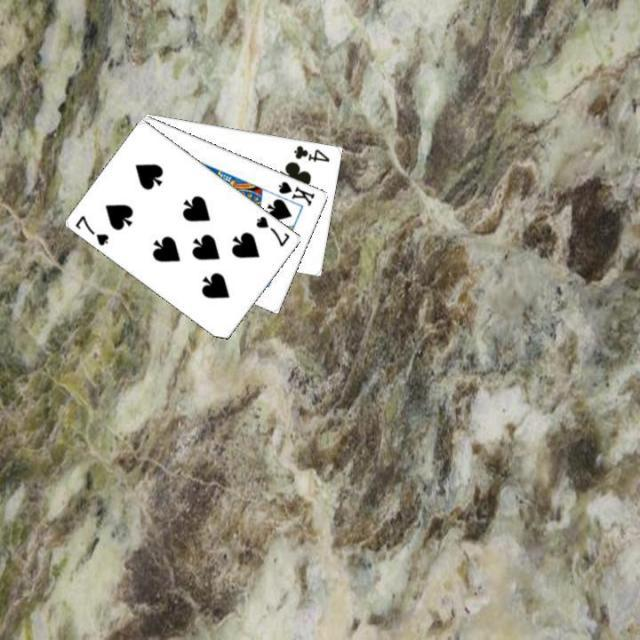4C: (290, 142, 332, 164)
7S: (252, 212, 292, 248), (71, 212, 111, 248)
KS: (274, 177, 318, 207)
